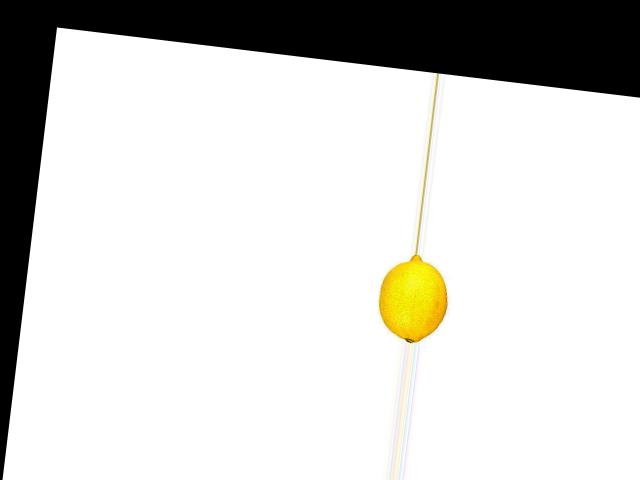lemon: (374, 252, 452, 345)
